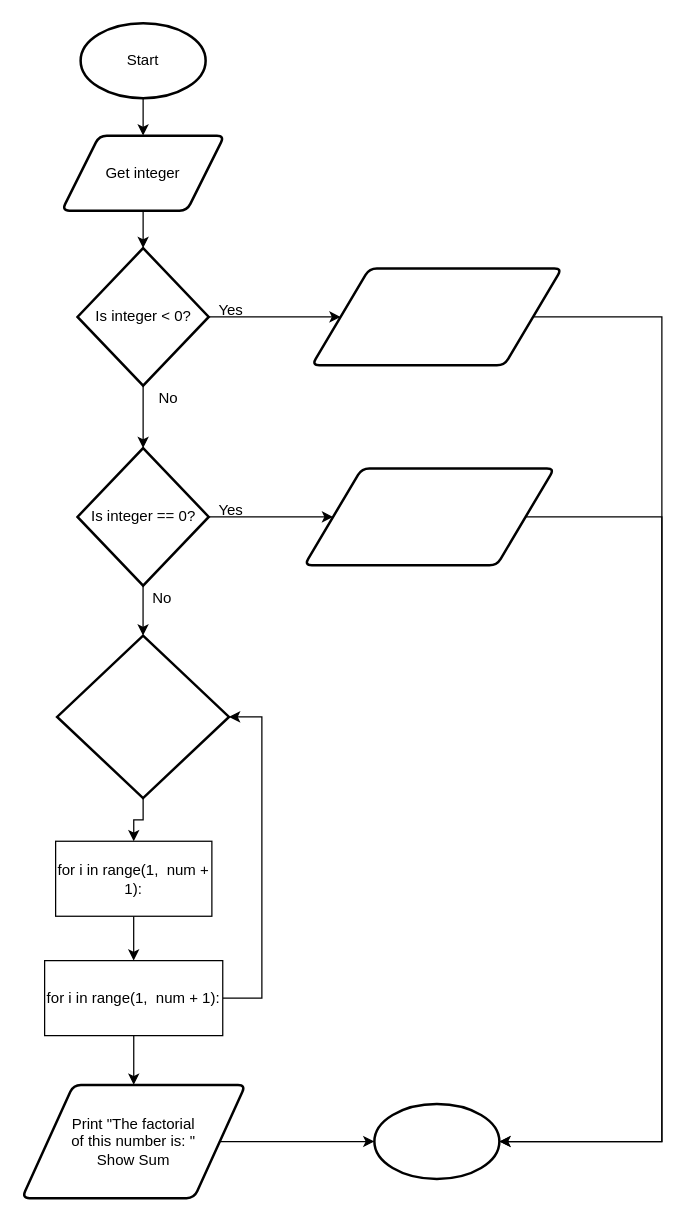
Some shapes in this 695 by 1220 pixel diagram are drawn without their labels. Each missing label, with the centre of its shape:
Print "Factorial does not exist for negative numbers.: (436,316)
Print "The factorial of 0 is 1.": (428,516)
Stop: (436,1141)
While counter <= integer: (142,716)
